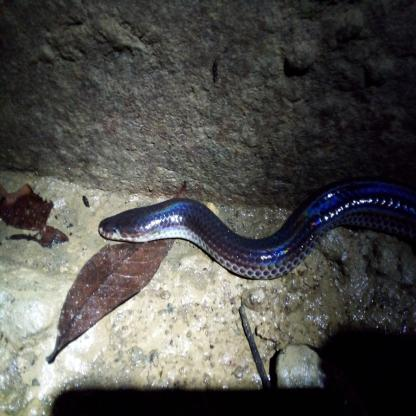Snake: (93, 160, 416, 281)
